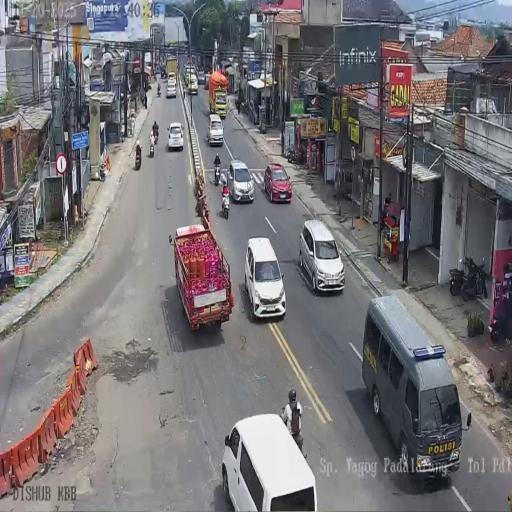3: (171, 223, 232, 332), (208, 70, 228, 120), (184, 64, 195, 86), (167, 55, 177, 70)
car: (221, 413, 318, 511), (244, 235, 286, 320), (298, 220, 344, 295), (224, 160, 253, 205), (264, 162, 292, 204), (207, 114, 225, 146), (167, 122, 183, 152), (166, 76, 177, 98), (197, 70, 205, 84), (204, 73, 210, 89)
truck: (449, 252, 488, 301), (490, 304, 511, 342), (284, 143, 302, 164), (221, 189, 230, 219), (214, 164, 221, 186), (153, 127, 159, 144), (157, 83, 161, 96)
